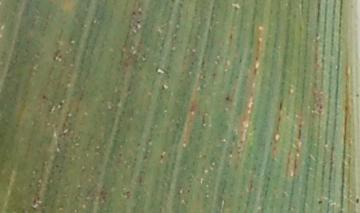tarspot: (39, 92, 48, 101), (297, 126, 303, 139), (277, 99, 284, 110), (231, 4, 239, 12), (223, 94, 231, 101), (58, 99, 65, 107), (354, 195, 360, 204), (130, 9, 137, 15), (135, 18, 141, 25), (317, 198, 323, 205), (158, 153, 165, 159), (355, 92, 360, 97)
